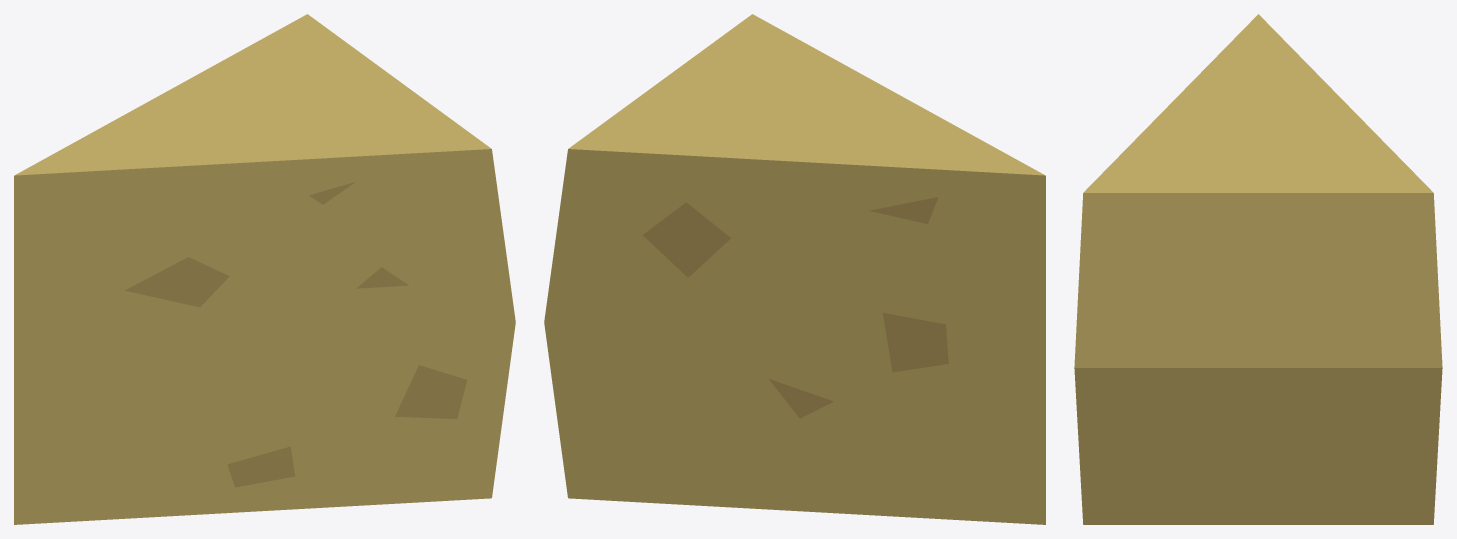
The model's file is Cheese3.fbx.
The picture shows the model from 3 angles, left to right: view 1: azimuth 30°, elevation 25°; view 2: azimuth 150°, elevation 25°; view 3: azimuth 270°, elevation 25°; orthographic projection. The views are drawn at different scales.
Visible parts, largest first — view 1: Cylinder; view 2: Cylinder; view 3: Cylinder.
Part boxes in pixels (x1,y1,x2,y2): Cylinder: (14, 14, 515, 524); Cylinder: (544, 14, 1045, 524); Cylinder: (1074, 14, 1442, 524).
Bounding box in the file's own units: 0.291 × 0.24 × 0.2411.
